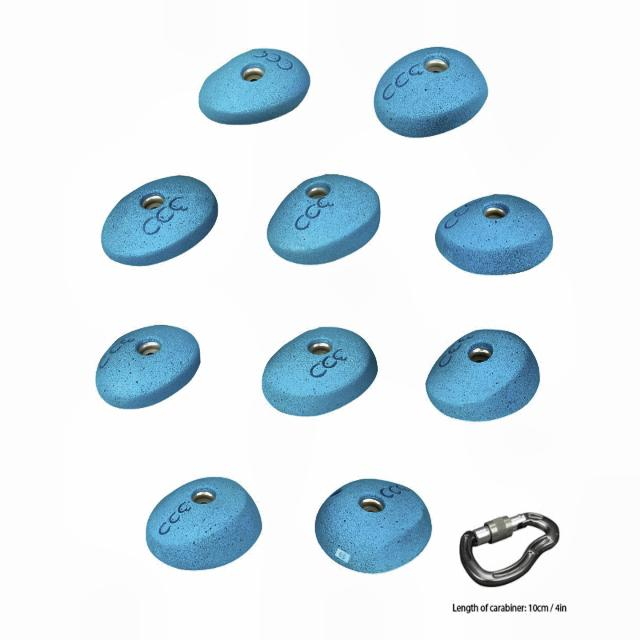Hold: (368, 31, 492, 137), (95, 170, 228, 266), (315, 474, 437, 576), (264, 164, 386, 262), (422, 322, 540, 423), (254, 323, 378, 416), (146, 471, 261, 571), (438, 190, 556, 272), (195, 41, 312, 123), (94, 324, 202, 407)
